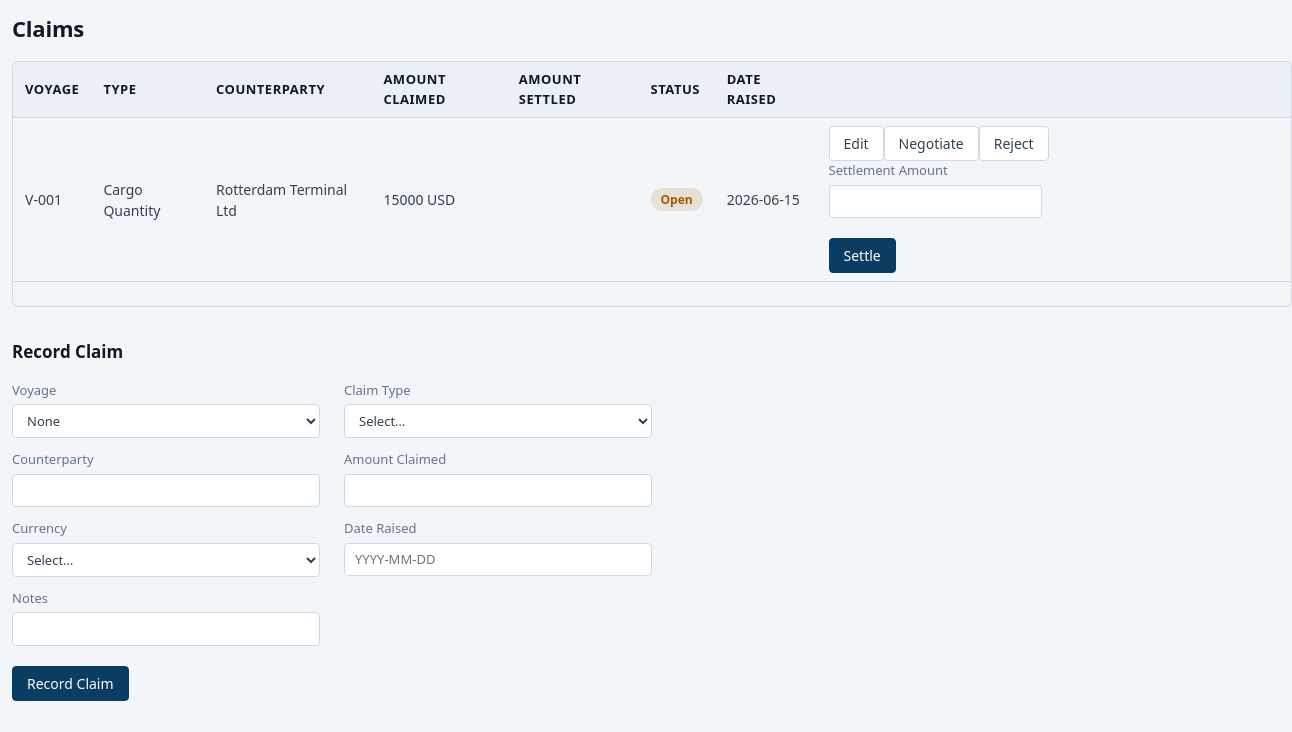
Test: ClaimsPage › lets the operator reject a claim
Check: the text "Rotterdam Terminal Ltd" is shown, box [204, 118, 371, 282]
Step 1. Click the button "Reject" → (1014, 144), box [979, 126, 1049, 161]
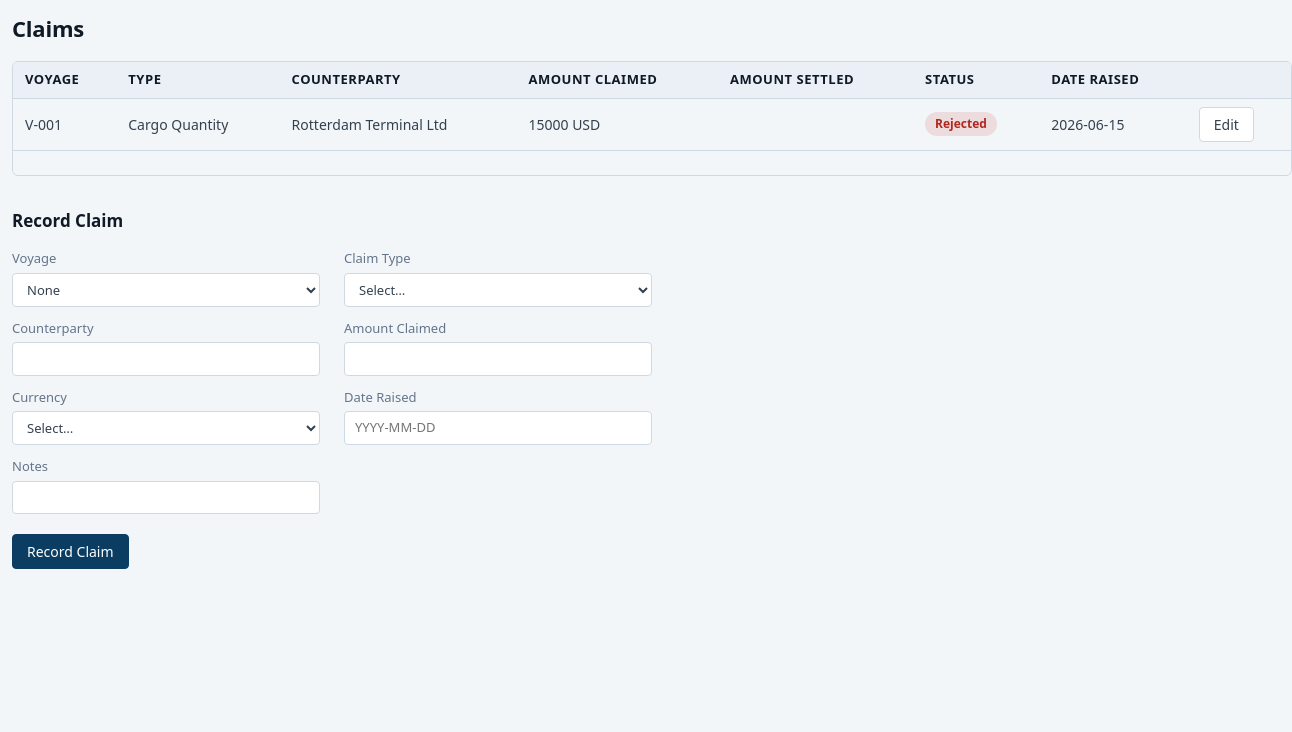
Check: the text "Rejected" is shown, box [925, 112, 997, 136]
